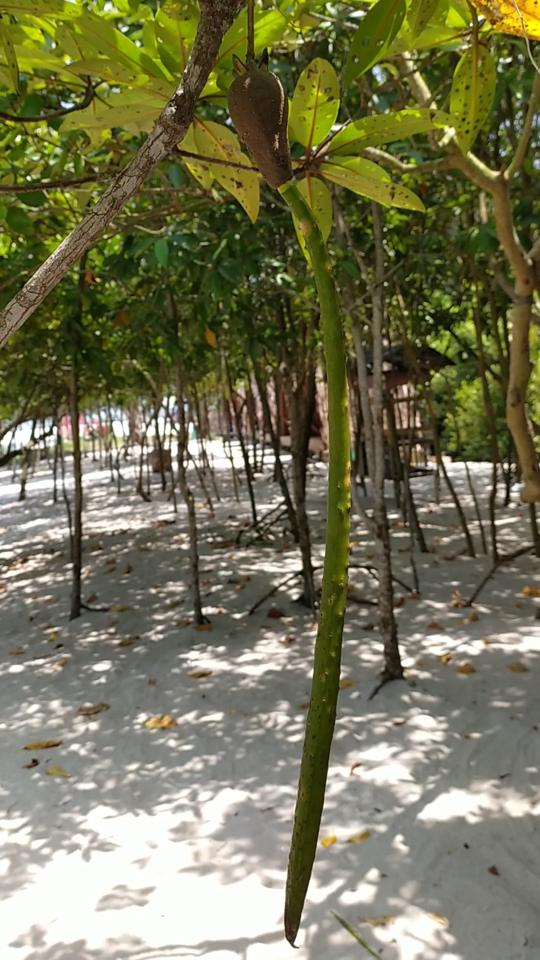setengah matang: (219, 44, 364, 948)
